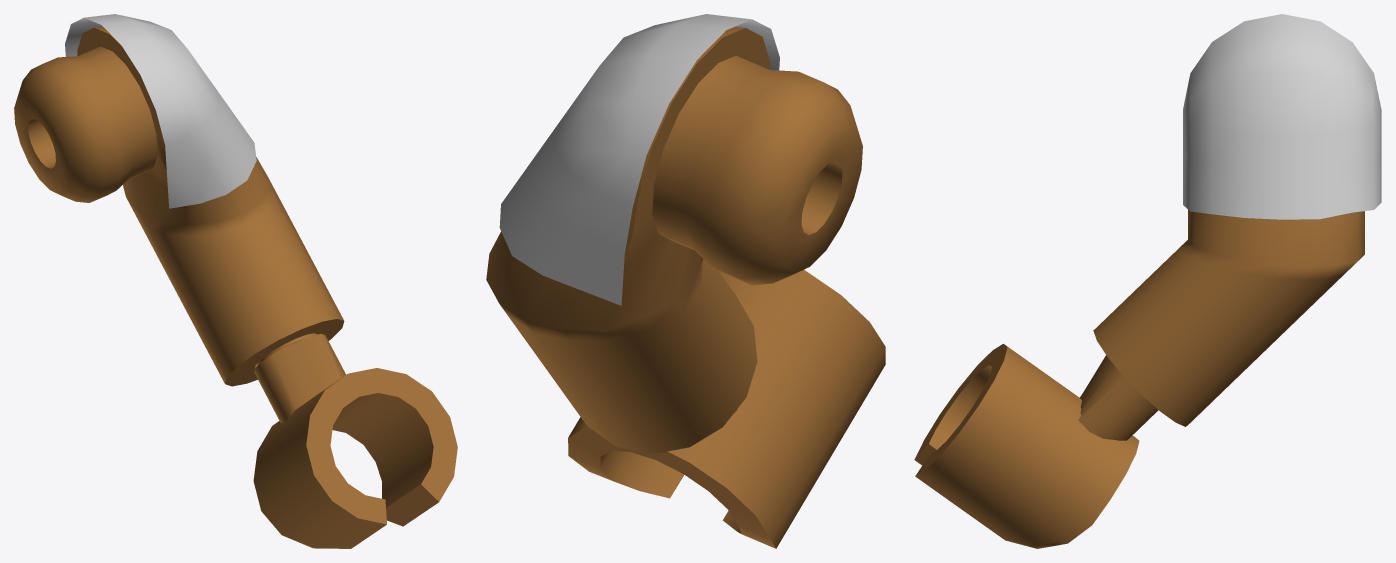
The model's file is lHand.obj.
3 views of the same model, side by side, from view 1: azimuth 30°, elevation 25°; view 2: azimuth 150°, elevation 25°; view 3: azimuth 270°, elevation 25° (orthographic). The views are drawn at different scales.
Visible parts, largest first — view 1: lHand1:pasted__pasted__lhandgroup group1; view 2: lHand1:pasted__pasted__lhandgroup group1; view 3: lHand1:pasted__pasted__lhandgroup group1.
Part boxes in pixels (<box>): lHand1:pasted__pasted__lhandgroup group1: <box>14,14,457,548</box>; lHand1:pasted__pasted__lhandgroup group1: <box>486,14,885,548</box>; lHand1:pasted__pasted__lhandgroup group1: <box>914,14,1381,548</box>.
Bounding box in the file's own units: 1.42 × 2.28 × 2.1.
